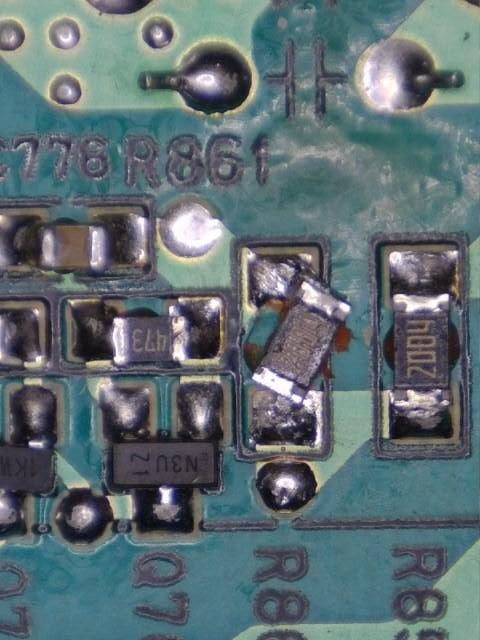pcb_defect: (246, 252, 353, 450), (72, 298, 221, 364), (0, 213, 145, 273)
